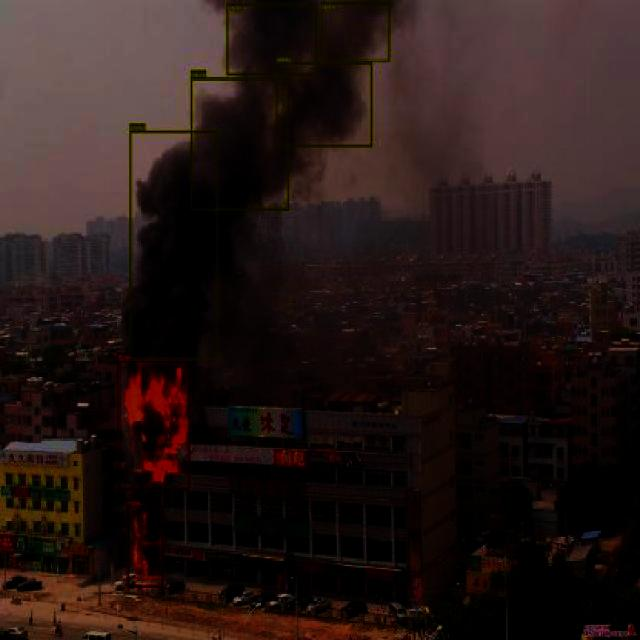fire: (116, 359, 190, 490), (126, 505, 163, 587)
smoke: (130, 130, 218, 359), (190, 76, 288, 210), (276, 62, 372, 146), (227, 2, 316, 76), (319, 1, 390, 62)
